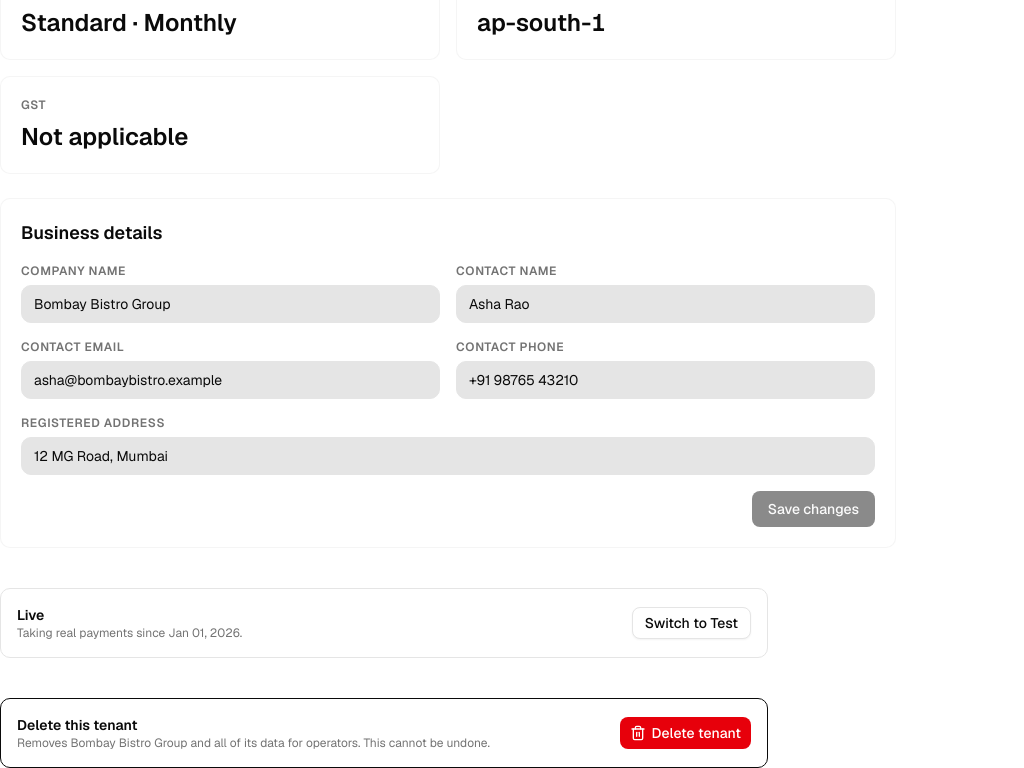
TenantDetailPage lifecycle actions › delete: a 409 conflict shows the backend message and does not navigate away
The image size is (1024, 768).
(page scrolled)
Click the button with test id "tenant-delete" at (685, 733), box [620, 717, 751, 749]
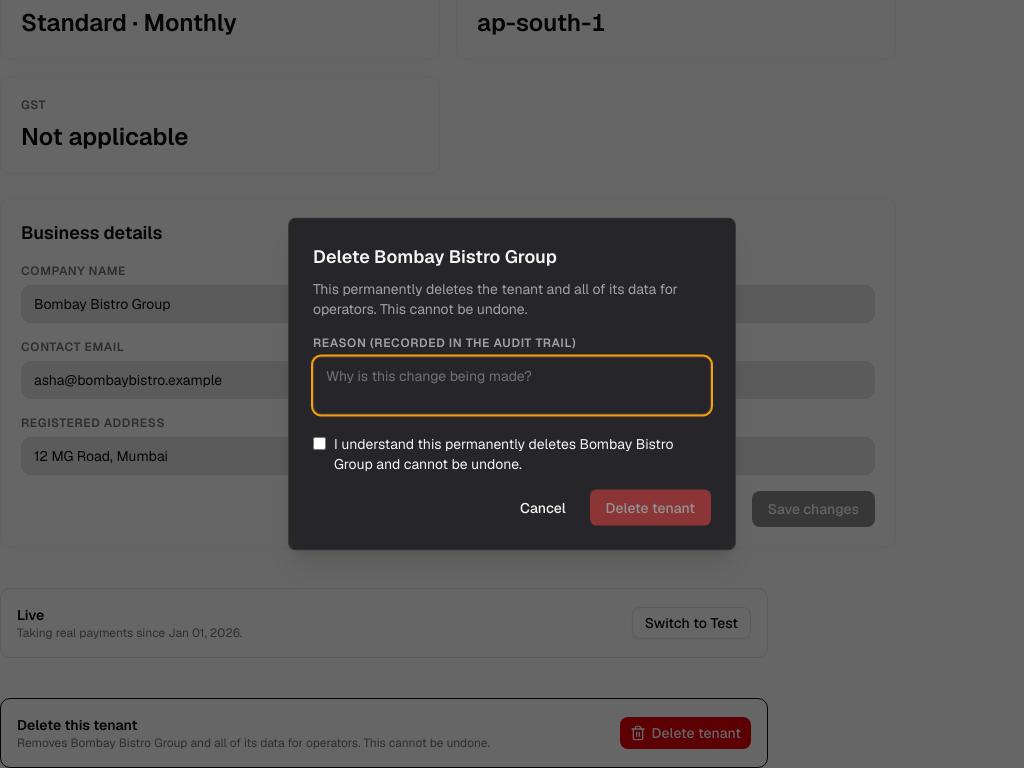
Type "Trying to delete" into the text box with test id "confirm-reason" at (512, 386), box [313, 356, 711, 414]
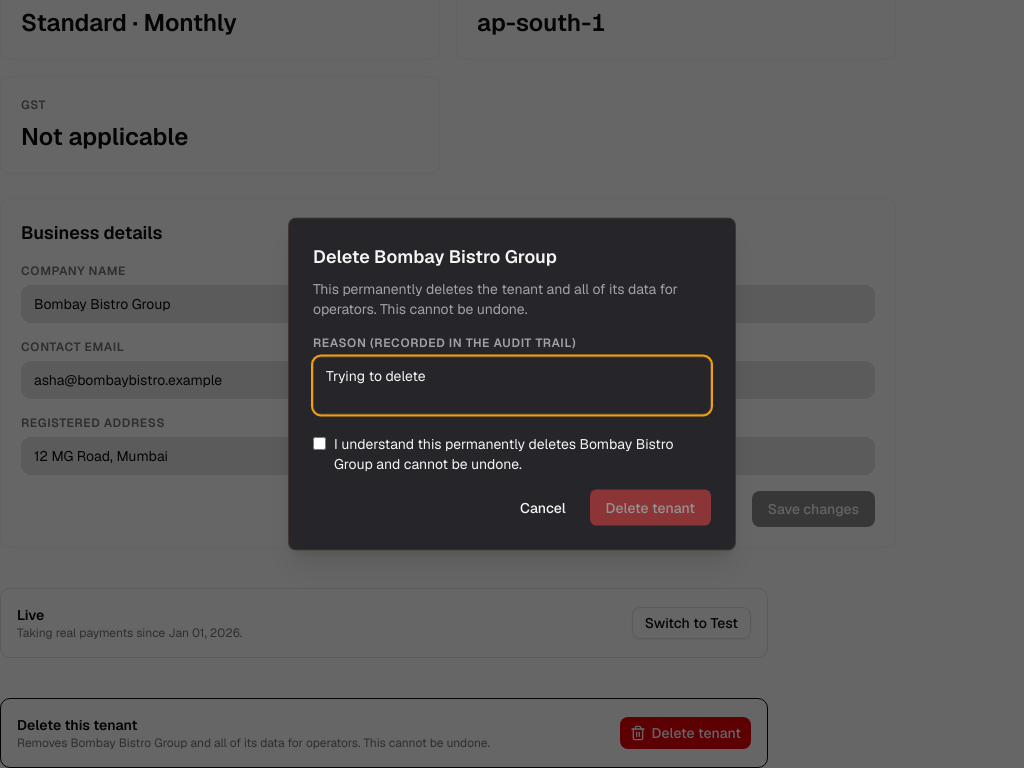
Click the checkbox with test id "confirm-checkbox" at (320, 444), box [313, 436, 326, 452]
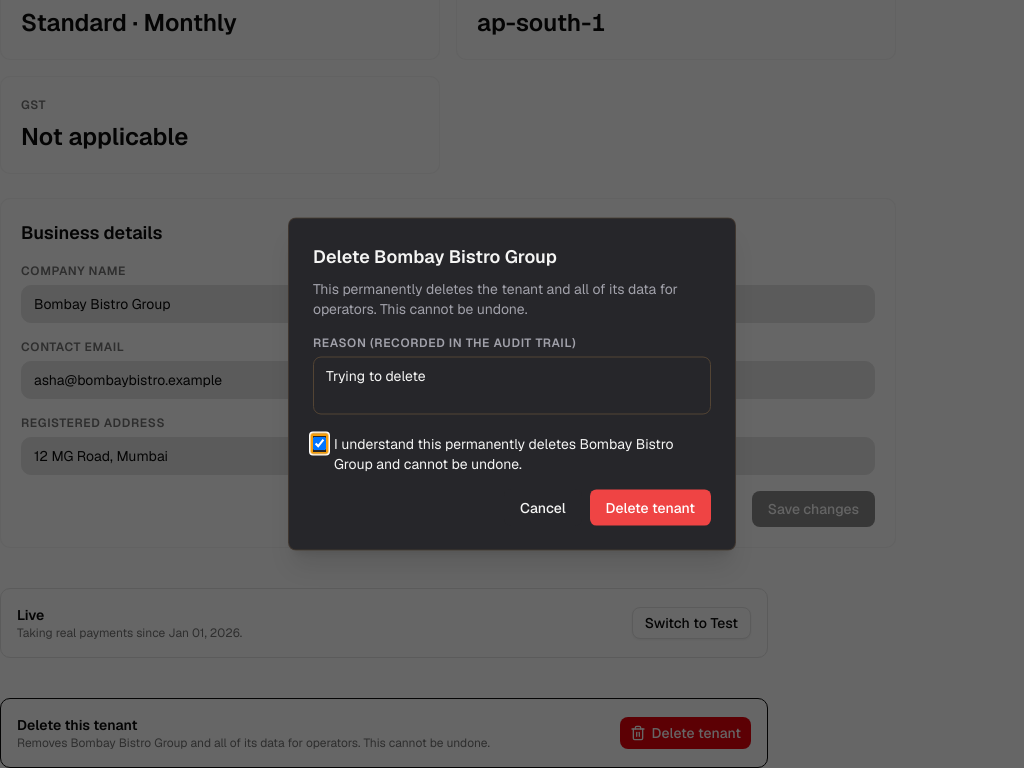
Click the button with test id "confirm-submit" at (650, 508), box [590, 490, 711, 526]
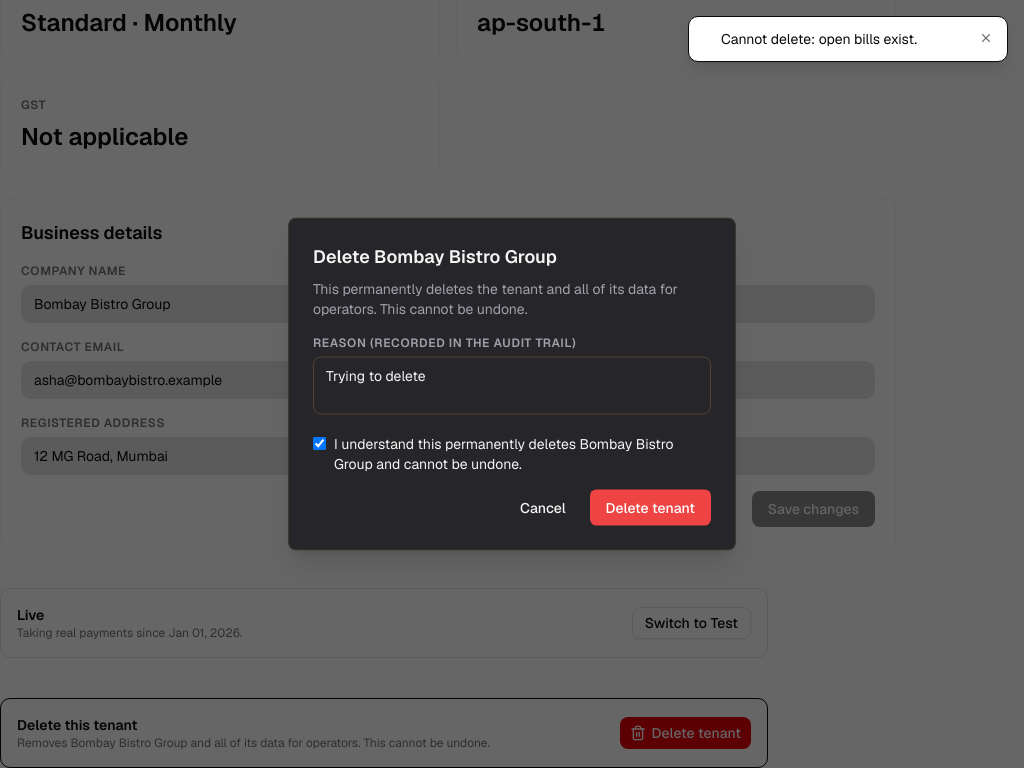
expect the element with test id "toast-error" reads "Cannot delete: open bills exist.": met, box [721, 30, 917, 48]
